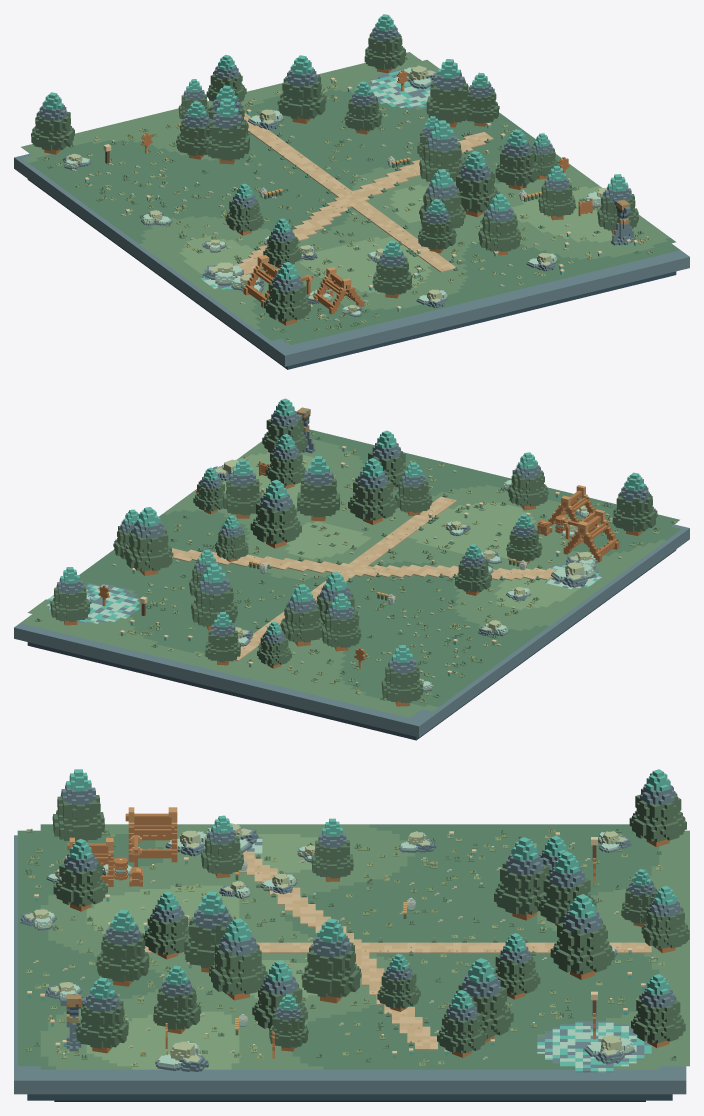
The model's file is survival_purified.glb.
The picture shows the model from 3 angles, top to bottom: view 1: azimuth 30°, elevation 25°; view 2: azimuth 150°, elevation 25°; view 3: azimuth 270°, elevation 25°; orthographic projection. The views are drawn at different scales.
Parts seen in each view (by area): view 1: survival_ground, survival_occluders; view 2: survival_ground, survival_occluders; view 3: survival_ground, survival_occluders.
Part boxes in pixels (x1,y1,x2,y2): survival_ground: (14, 52, 689, 369); survival_occluders: (31, 14, 638, 325); survival_ground: (14, 429, 689, 740); survival_occluders: (50, 398, 657, 706); survival_ground: (14, 824, 689, 1101); survival_occluders: (52, 769, 689, 1071).
Bounding box in the file's own units: 38.46 × 8.97 × 44.25.
